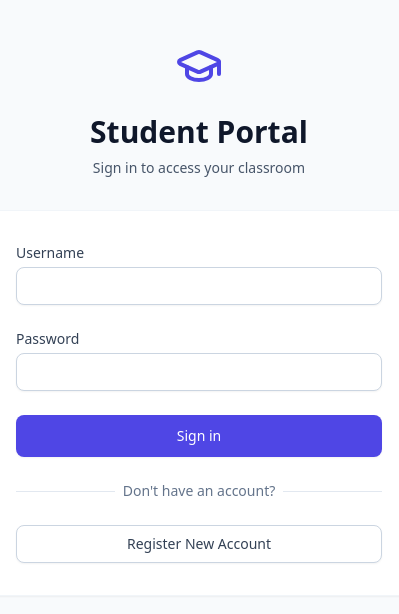
Test case: Auth pages › student login rejects non-student role
In the field labelled "Username": [199, 286] box top-left (16, 267), bottom-right (382, 305), type "stu"
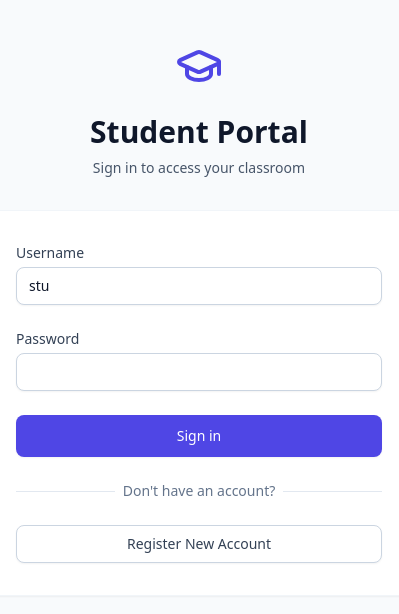
In the password field labelled "Password": [199, 372] box top-left (16, 353), bottom-right (382, 391), type "pass"
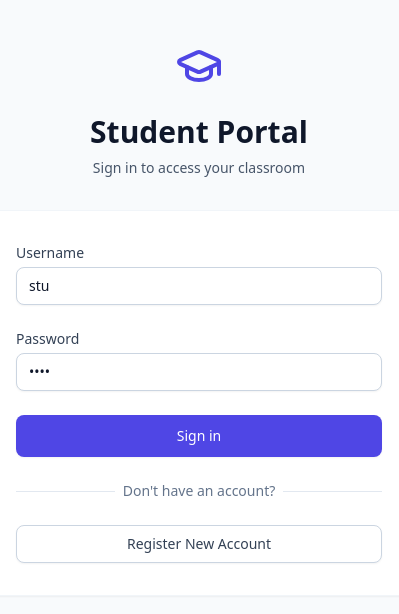
Click the button "Sign in": [199, 436] box top-left (16, 415), bottom-right (382, 457)
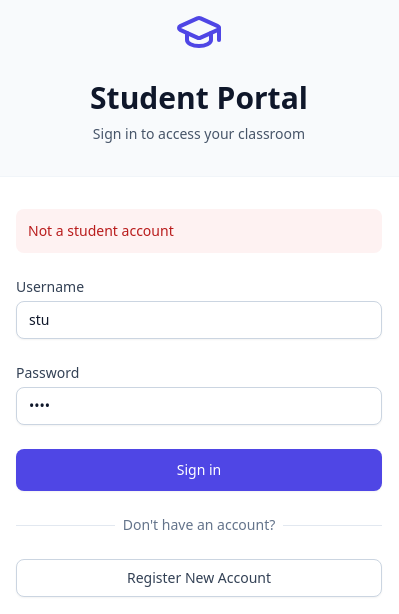
Now the text "Not a student account" is shown, box top-left (16, 209), bottom-right (382, 253)
